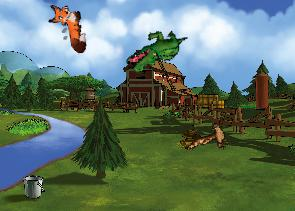crocodile: (123, 16, 189, 85)
eagle: (184, 108, 239, 166)
fox: (46, 0, 88, 56)
